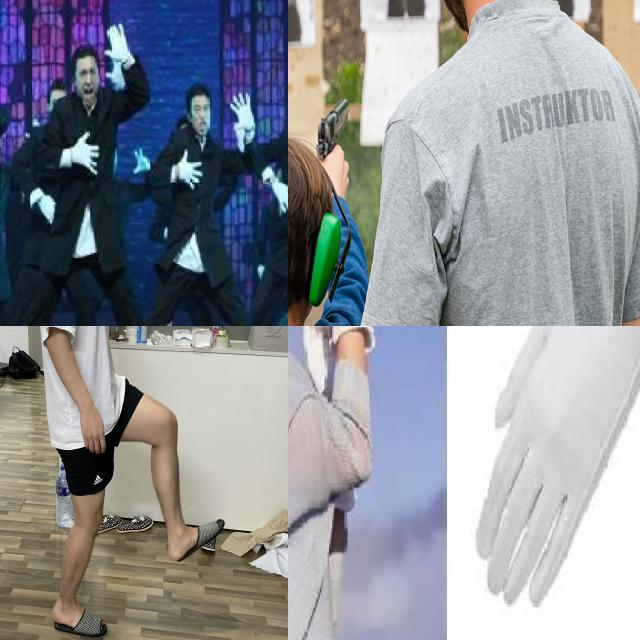Ear-protection: (305, 209, 343, 309)
Sandals: (160, 516, 232, 571), (46, 592, 112, 640)
face_nomask: (78, 64, 108, 104), (190, 102, 213, 138)
hand_glove: (472, 326, 632, 623), (298, 326, 345, 403), (229, 88, 257, 132), (103, 20, 130, 64), (75, 129, 100, 175), (178, 146, 203, 190), (38, 192, 57, 227), (273, 179, 288, 214), (132, 146, 151, 173)
head_nohelmet: (63, 46, 100, 73), (182, 86, 210, 106)
person: (371, 0, 640, 326), (30, 48, 155, 326), (288, 326, 389, 640), (161, 81, 253, 326)
